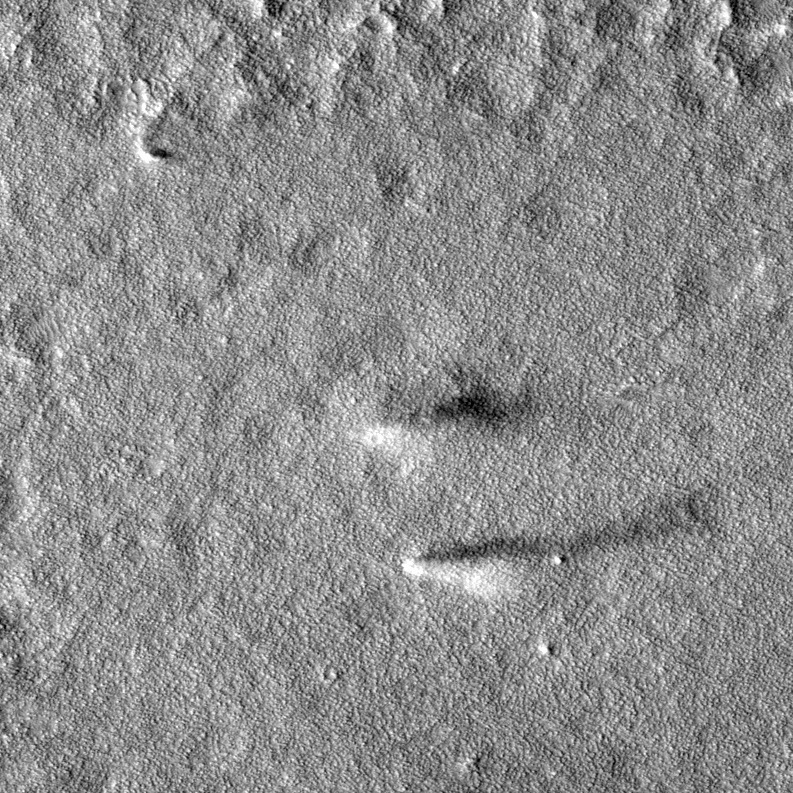dust_devil: (398, 496, 711, 601), (350, 373, 538, 475)
